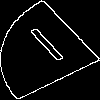I: (25, 25, 76, 72)
